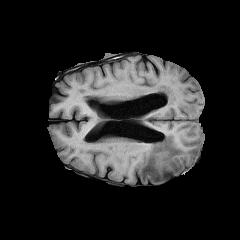glioma: (140, 134, 183, 181)
